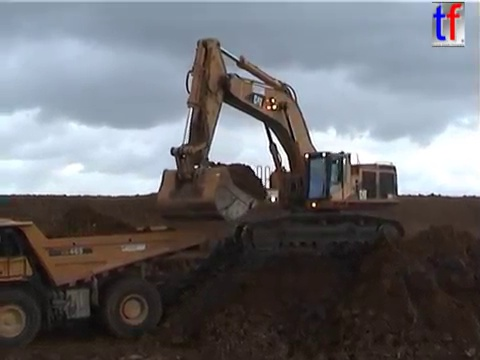excavator: (153, 35, 407, 263)
truck: (1, 214, 209, 350)
